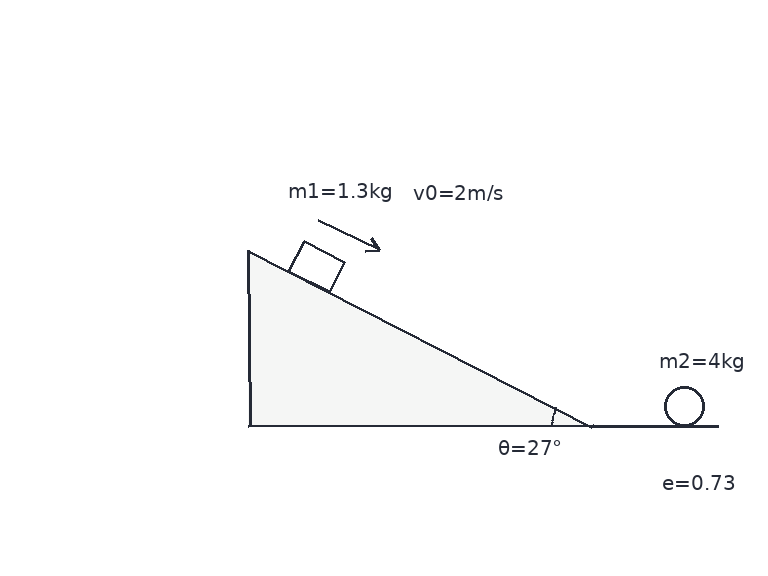ball: (662, 384, 706, 428)
block: (286, 239, 347, 294)
ramp: (246, 249, 594, 428)
